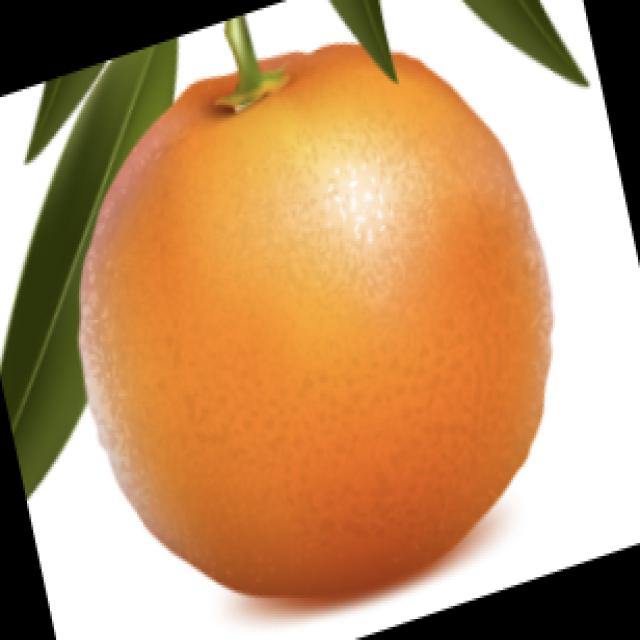orange: (86, 34, 568, 616)
